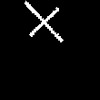single_crochet: (25, 2, 62, 41)
